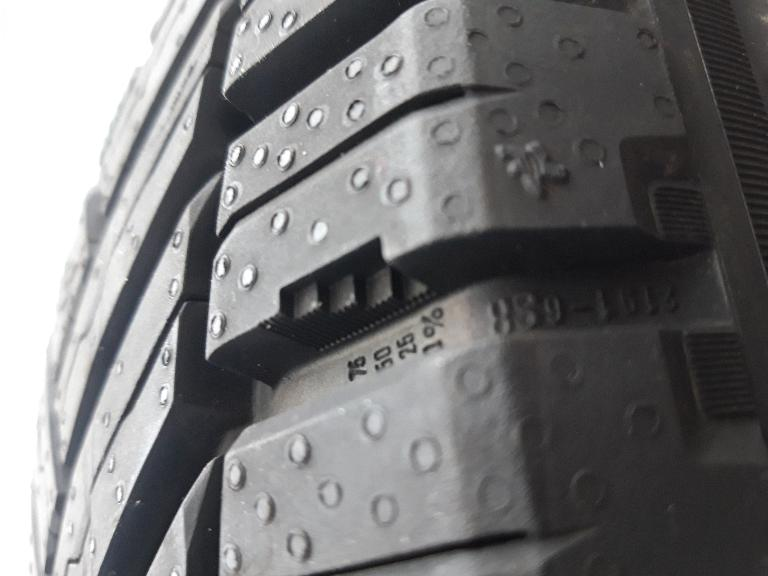temoin:100: (251, 228, 448, 360)
